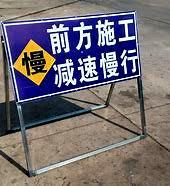sign: (6, 14, 138, 95)
